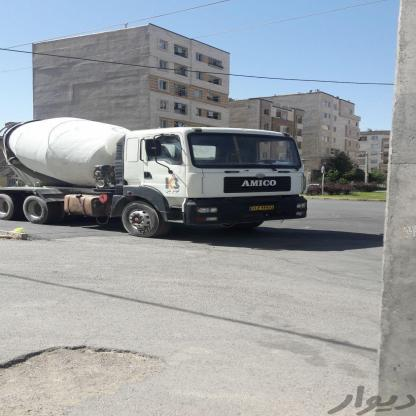Truck: (0, 108, 299, 244)
